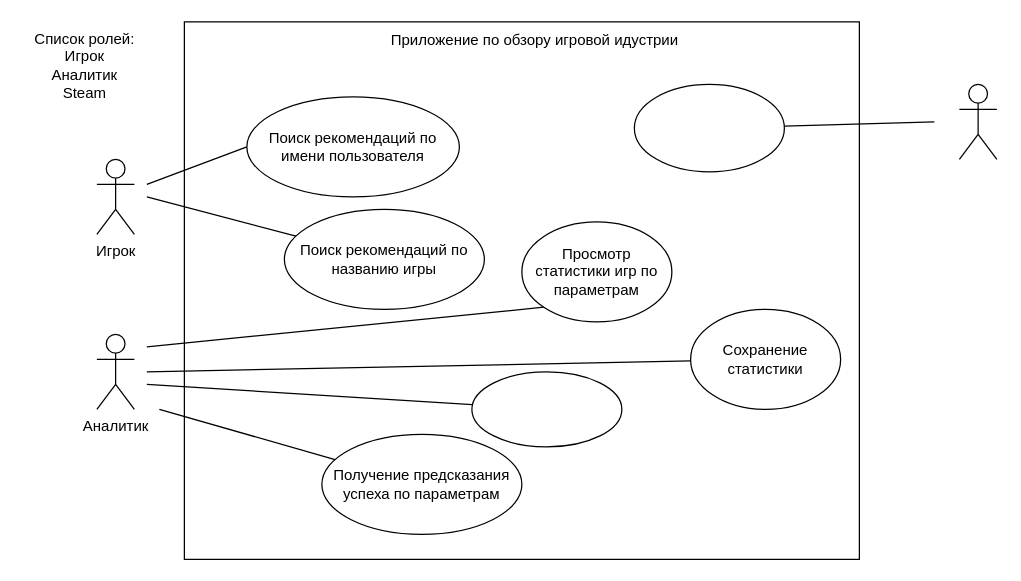
Image size: 1021x581. Some labels were removed from this diagram. The centre of each missing label's shape, as x and y in pixels:
"Steam" goes at (x=977, y=121).
"Предоставляет данные" goes at (x=708, y=127).
"Сравнение игр" goes at (x=546, y=409).
